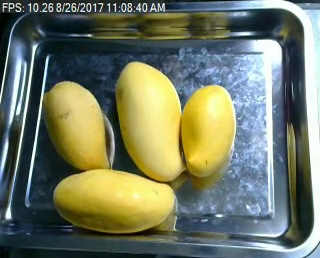Mango: (110, 60, 192, 181), (50, 169, 185, 237), (43, 77, 114, 170), (179, 83, 240, 178)
